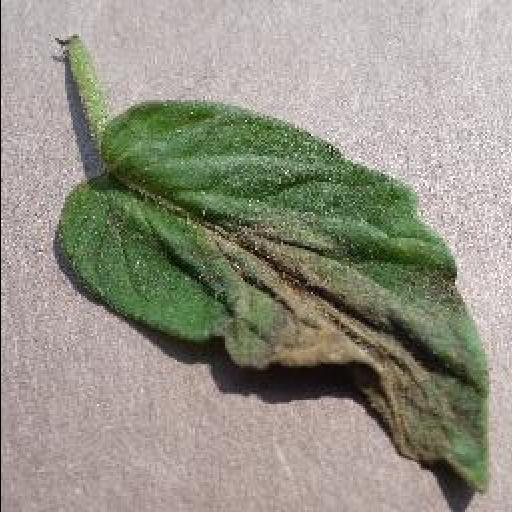disease_tomato: (51, 102, 497, 498)
